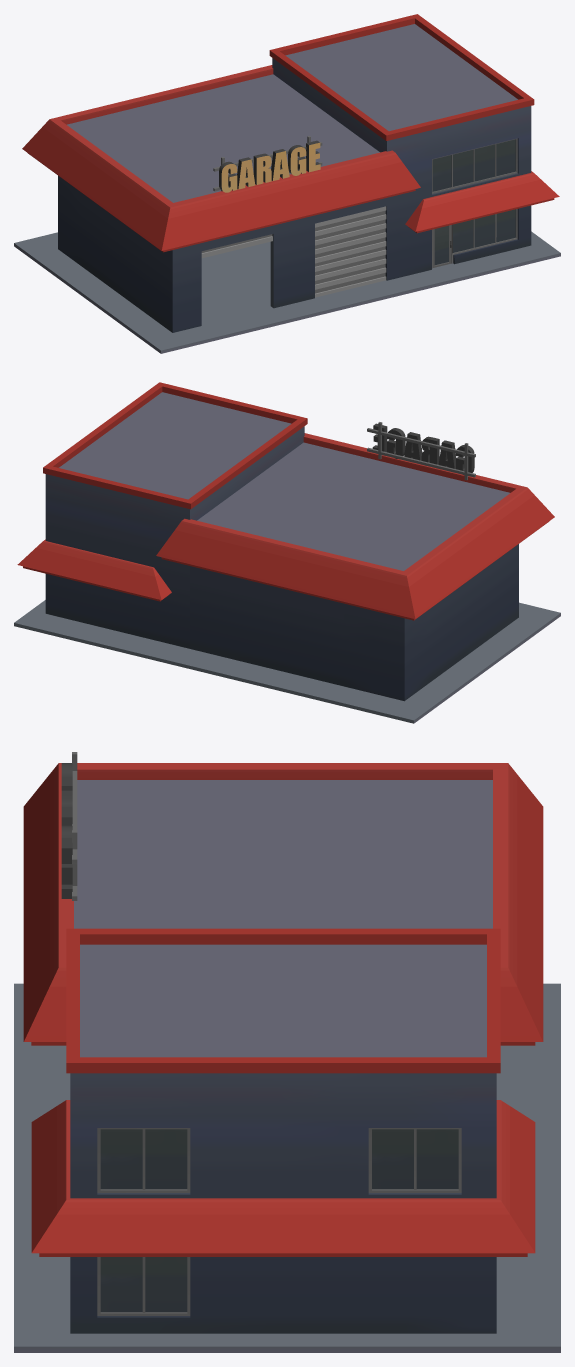
Rendered from Garage.fbx.
The picture shows the model from 3 angles, top to bottom: view 1: azimuth 30°, elevation 25°; view 2: azimuth 150°, elevation 25°; view 3: azimuth 270°, elevation 25°; orthographic projection. The views are drawn at different scales.
Parts seen in each view (by area): view 1: Garage; view 2: Garage; view 3: Garage.
Boxes of the visible parts, x1,y1,x2,y2 form: Garage: (14, 14, 560, 353); Garage: (14, 382, 560, 723); Garage: (14, 752, 560, 1352).
Size of the model in its own units: 2013 by 788 by 1270.
